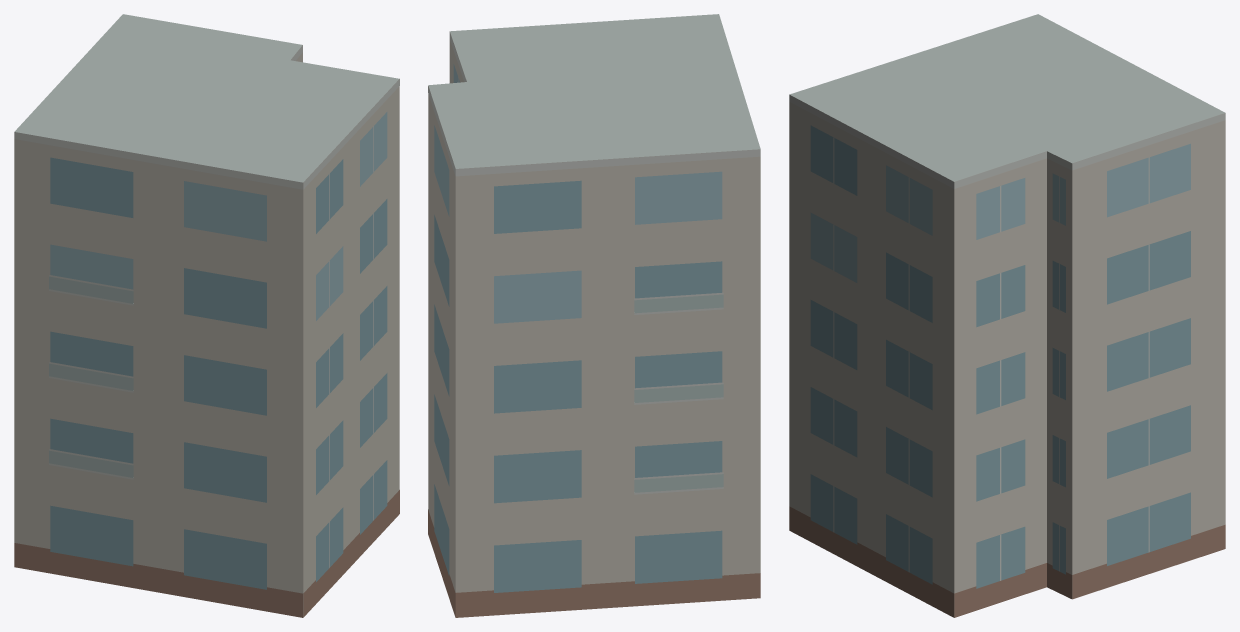
The model's file is survey-upis-32691787.glb.
3 renders of one model, left to right at view 1: azimuth 30°, elevation 25°; view 2: azimuth 150°, elevation 25°; view 3: azimuth 270°, elevation 25°, orthographic. The views are drawn at different scales.
Parts seen in each view (by area): view 1: survey-upis-32691787.tmp; view 2: survey-upis-32691787.tmp; view 3: survey-upis-32691787.tmp.
Boxes of the visible parts, x1,y1,x2,y2 form: survey-upis-32691787.tmp: [14, 14, 399, 617]; survey-upis-32691787.tmp: [428, 14, 760, 617]; survey-upis-32691787.tmp: [789, 14, 1225, 617].
Size of the model in its own units: 12.23 by 14.8 by 13.43.
